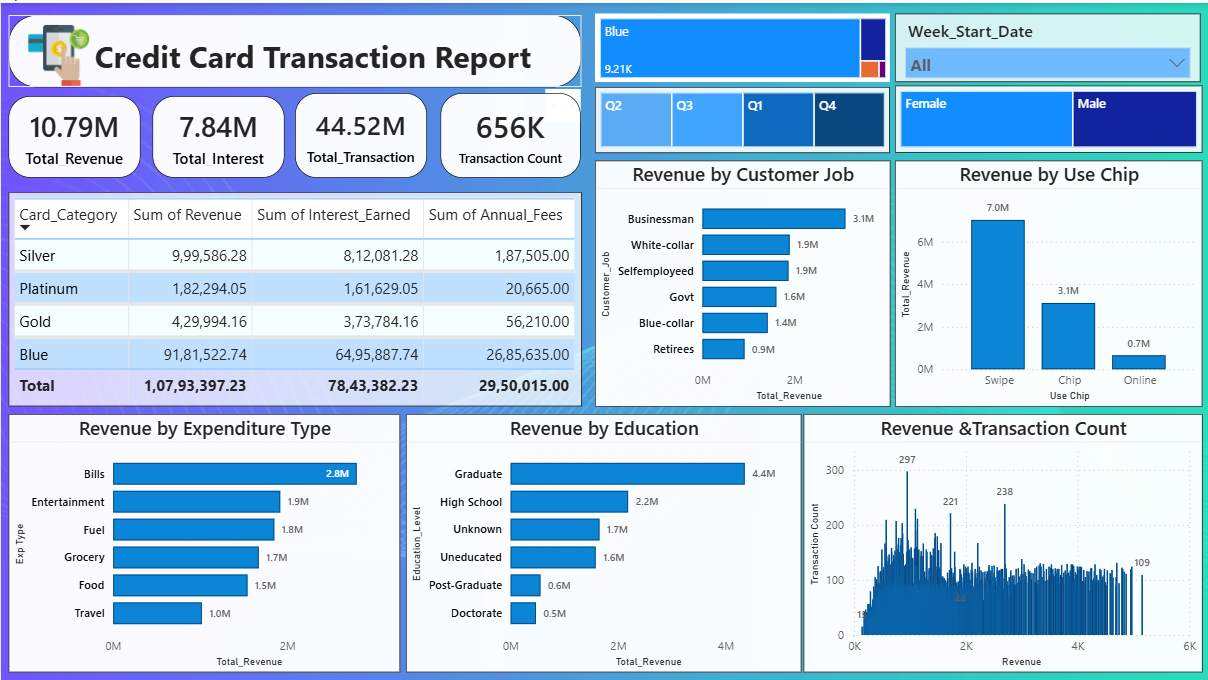

The page's visual inventory and layout, read from the dashboard file:
{"tool":"powerbi","page":{"name":"Transaction Report","canvas":[1280,720],"ordinal":0},"visuals":[{"type":"textbox","box":[8,12.7,607.6,76.3],"z":0},{"type":"card","fields":{"Values":["credit_card.Total_Revenue"]},"box":[8.4,98.5,140.3,86.9],"z":1000},{"type":"card","fields":{"Values":["credit_card.Total_Interest_Earned"]},"box":[160.3,98.5,140.3,86.9],"z":2000},{"type":"card","fields":{"Values":["credit_card.Total_Transaction_Amount"]},"box":[312.3,95.2,140.3,90.2],"z":3000},{"type":"card","fields":{"Values":["credit_card.Transaction Count"]},"box":[466,95.2,148.7,90.2],"z":4000},{"type":"tableEx","fields":{"Values":["credit_card.Card_Category","Sum(credit_card.Revenue)","Sum(credit_card.Interest_Earned)","Sum(credit_card.Annual_Fees)"]},"box":[8.1,201.1,608.1,227],"z":5000},{"type":"clusteredBarChart","title":"Revenue by Expenditure Type","fields":{"Y":["credit_card.Total_Revenue"],"Category":["credit_card.Exp Type"]},"box":[8.1,436.2,415.1,274.1],"z":6000},{"type":"clusteredBarChart","title":"Revenue by Education","fields":{"Y":["credit_card.Total_Revenue"],"Category":["customer.Education_Level"]},"box":[428.8,435.6,419,274],"z":7000},{"type":"clusteredBarChart","title":"Revenue by Customer  Job","fields":{"Y":["credit_card.Total_Revenue"],"Category":["customer.Customer_Job"]},"box":[629.7,167,313,261],"z":8000},{"type":"columnChart","title":"Revenue by Use Chip","fields":{"Category":["credit_card.Use Chip"],"Y":["credit_card.Total_Revenue"]},"box":[948.7,167,325.9,261.1],"z":9000},{"type":"columnChart","title":"Revenue &Transaction Count ","fields":{"Category":["credit_card.Revenue"],"Y":["credit_card.Transaction Count"]},"box":[851,435.8,423,274],"z":10000},{"type":"slicer","title":"Revenue by Education","fields":{"Values":["credit_card.Week_Start_Date"]},"box":[948.7,11.4,324.3,73],"z":11000},{"type":"treemap","title":"Qtr","fields":{"Group":["credit_card.Qtr"],"Values":["CountNonNull(credit_card.Client_Num)"]},"box":[629.2,89.2,313,69.7],"z":12000},{"type":"treemap","title":"Qtr","fields":{"Group":["customer.Gender"],"Values":["CountNonNull(credit_card.Client_Num)"]},"box":[948.7,87.6,325.9,71.4],"z":13000},{"type":"image","box":[15.9,22.3,90.7,66.8],"z":14000},{"type":"treemap","fields":{"Values":["CountNonNull(customer.Client_Num)"],"Group":["credit_card.Card_Category"]},"box":[629.2,11.4,313,73],"z":15000}]}

Visuals, with their boxes in screenshot pixels (x1, y1, x2, y2), scaled from the page's 1280x720 canvas onto the 1208x680 screenshot:
textbox: {"left": 8, "top": 12, "right": 581, "bottom": 84}
card - credit_card.Total_Revenue: {"left": 8, "top": 93, "right": 140, "bottom": 175}
card - credit_card.Total_Interest_Earned: {"left": 151, "top": 93, "right": 284, "bottom": 175}
card - credit_card.Total_Transaction_Amount: {"left": 295, "top": 90, "right": 427, "bottom": 175}
card - credit_card.Transaction Count: {"left": 440, "top": 90, "right": 580, "bottom": 175}
tableEx - credit_card.Card_Category x Sum(credit_card.Revenue): {"left": 8, "top": 190, "right": 582, "bottom": 404}
"Revenue by Expenditure Type" clusteredBarChart: {"left": 8, "top": 412, "right": 399, "bottom": 671}
"Revenue by Education" clusteredBarChart: {"left": 405, "top": 411, "right": 800, "bottom": 670}
"Revenue by Customer  Job" clusteredBarChart: {"left": 594, "top": 158, "right": 890, "bottom": 404}
"Revenue by Use Chip" columnChart: {"left": 895, "top": 158, "right": 1203, "bottom": 404}
"Revenue &Transaction Count " columnChart: {"left": 803, "top": 412, "right": 1202, "bottom": 670}
"Revenue by Education" slicer: {"left": 895, "top": 11, "right": 1201, "bottom": 80}
"Qtr" treemap: {"left": 594, "top": 84, "right": 889, "bottom": 150}
"Qtr" treemap: {"left": 895, "top": 83, "right": 1203, "bottom": 150}
image: {"left": 15, "top": 21, "right": 101, "bottom": 84}
treemap - CountNonNull(customer.Client_Num) x credit_card.Card_Category: {"left": 594, "top": 11, "right": 889, "bottom": 80}
